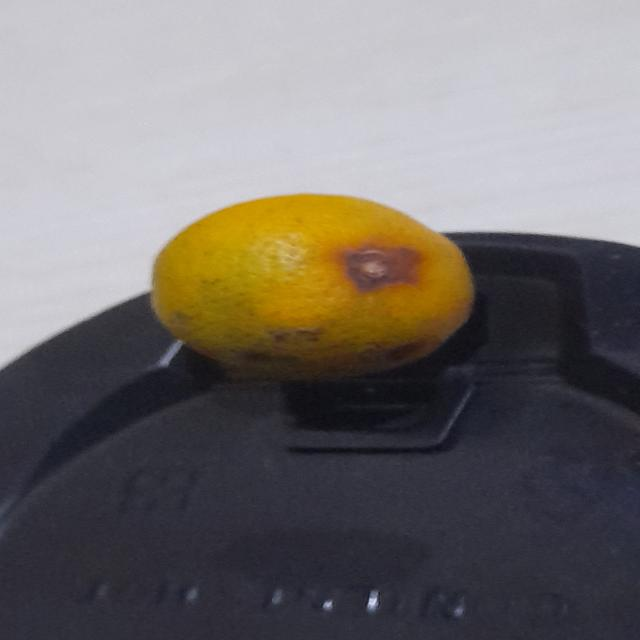black spot: (146, 190, 479, 386)
